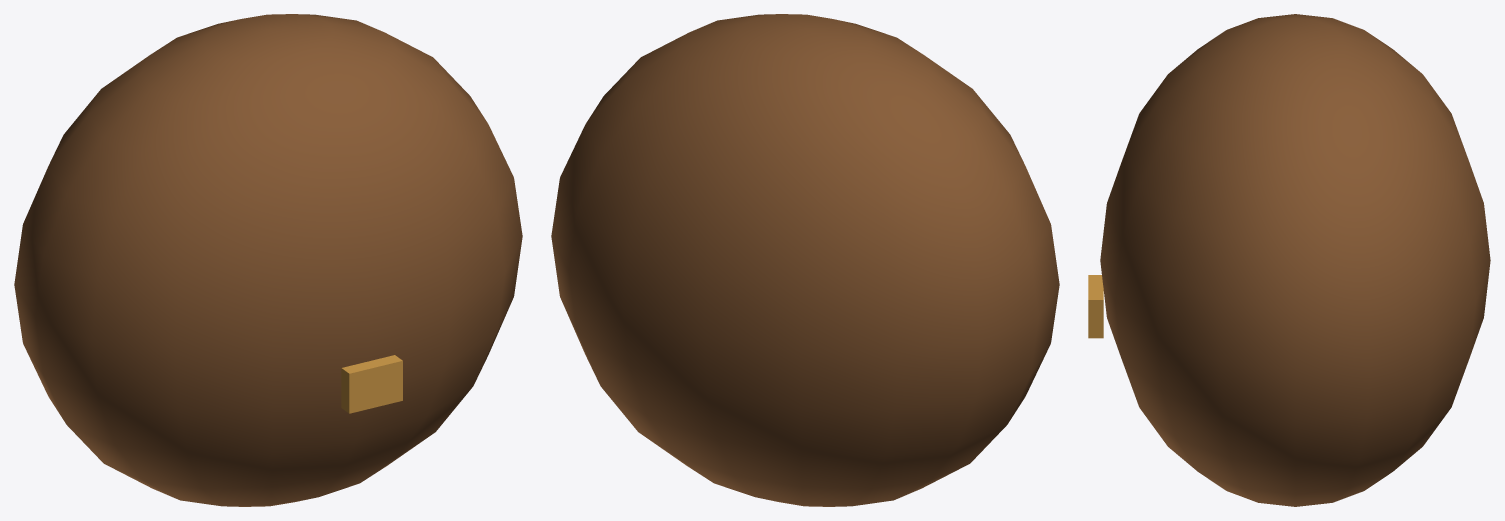
The model's file is armor_leather.glb.
The picture shows the model from 3 angles, left to right: view 1: azimuth 30°, elevation 25°; view 2: azimuth 150°, elevation 25°; view 3: azimuth 270°, elevation 25°; orthographic projection. The views are drawn at different scales.
Parts seen in each view (by area): view 1: TorsoShell, Buckle; view 2: TorsoShell; view 3: TorsoShell, Buckle.
Part boxes in pixels (box(x1,y1,x2,y2)): TorsoShell: box(14, 14, 522, 506); Buckle: box(341, 355, 402, 413); TorsoShell: box(551, 14, 1059, 506); TorsoShell: box(1100, 14, 1490, 506); Buckle: box(1088, 275, 1103, 338).
Size of the model in its own units: 0.61 by 0.576 by 0.474.
